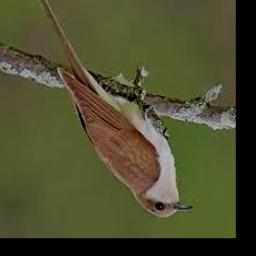Cuckoo: (27, 0, 194, 219)
